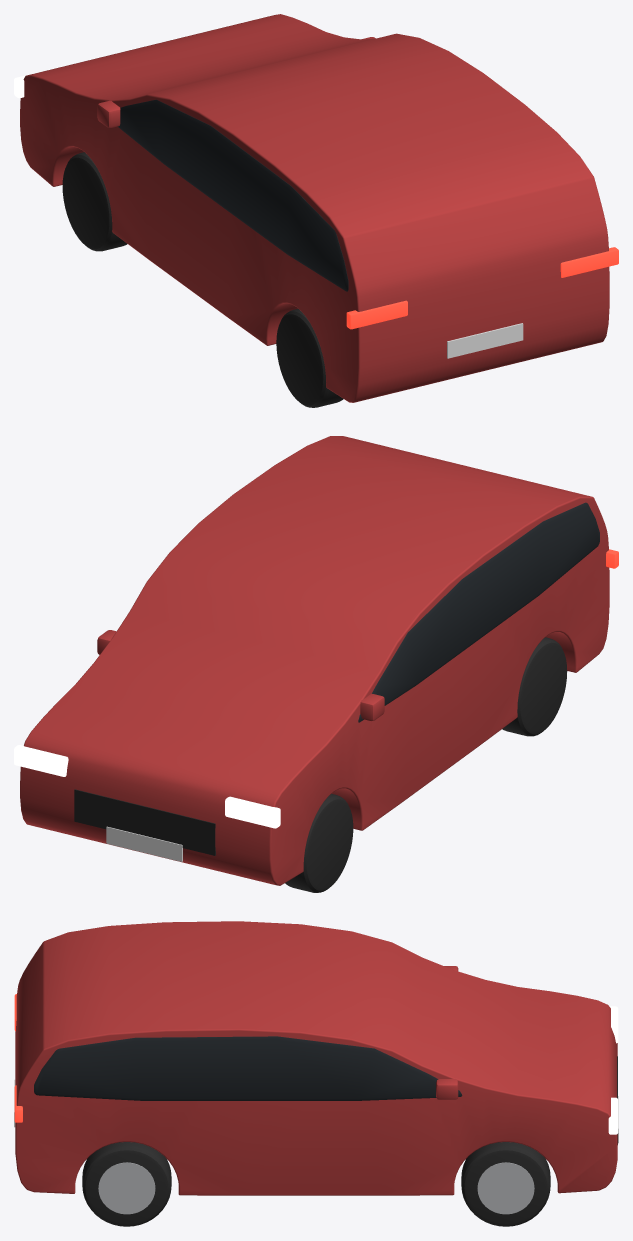
Rendered from car_hatch.glb.
3 views of the same model, one above another, from view 1: azimuth 30°, elevation 25°; view 2: azimuth 150°, elevation 25°; view 3: azimuth 270°, elevation 25° (orthographic). The views are drawn at different scales.
Visible parts, largest first — view 1: Body, Glass, Tyre, Tyre.002, PlateR, TailL, TailL.001, Mirror; view 2: Body, Glass, Grille, Tyre.002, Tyre, PlateF, HeadL, HeadL.001; view 3: Body, Glass, Tyre.001, Tyre.003, Rim.001, Rim.003, Mirror.001.
Part boxes in pixels (bbox=[...]): Body: bbox=[20, 14, 609, 402]; Glass: bbox=[117, 99, 348, 291]; Tyre: bbox=[276, 308, 343, 407]; Tyre.002: bbox=[62, 152, 127, 251]; PlateR: bbox=[447, 323, 523, 358]; TailL: bbox=[346, 300, 407, 329]; TailL.001: bbox=[560, 247, 618, 277]; Mirror: bbox=[97, 100, 120, 127]; Body: bbox=[20, 436, 609, 885]; Glass: bbox=[358, 502, 599, 722]; Grille: bbox=[74, 789, 215, 855]; Tyre.002: bbox=[285, 793, 353, 892]; Tyre: bbox=[502, 637, 567, 736]; PlateF: bbox=[106, 826, 182, 861]; HeadL: bbox=[225, 796, 280, 828]; HeadL.001: bbox=[14, 745, 68, 776]; Body: bbox=[15, 921, 617, 1195]; Glass: bbox=[34, 1036, 462, 1100]; Tyre.001: bbox=[82, 1142, 171, 1226]; Tyre.003: bbox=[461, 1142, 550, 1226]; Rim.001: bbox=[98, 1162, 155, 1214]; Rim.003: bbox=[477, 1162, 534, 1214]; Mirror.001: bbox=[436, 1079, 458, 1099].
Size of the model in its own units: 1.91 by 1.49 by 4.07.
